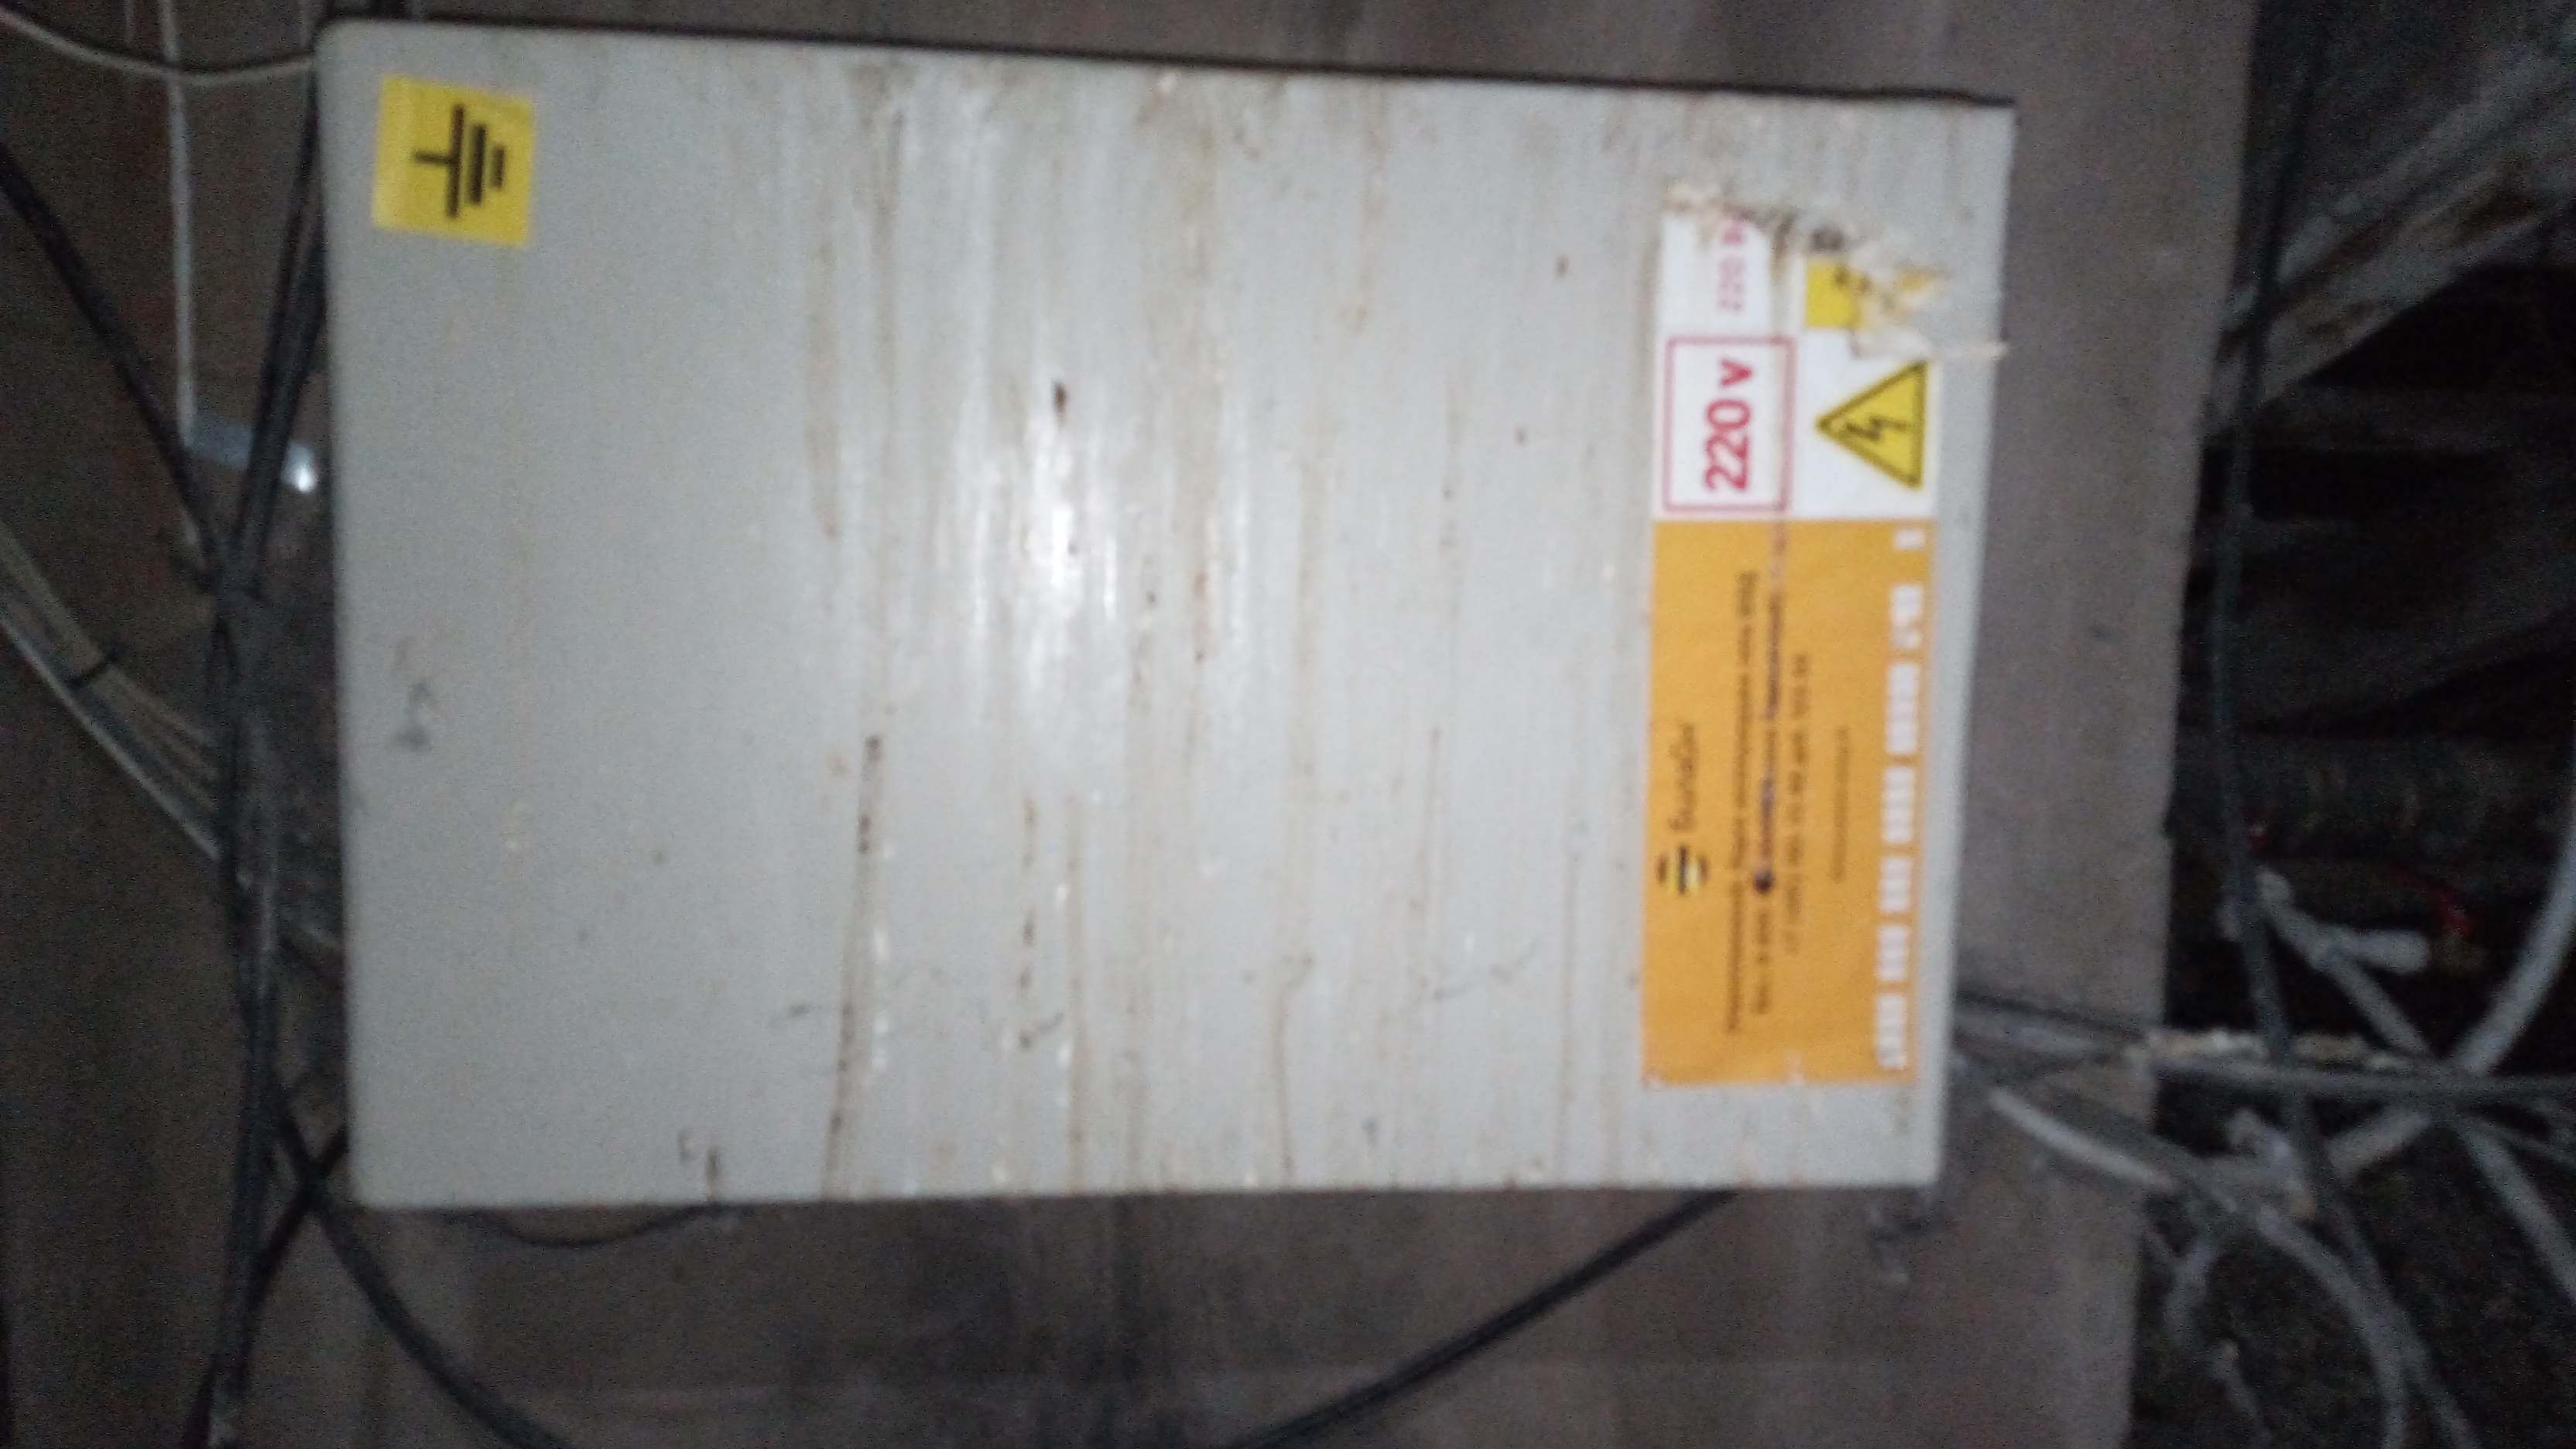sv-5: (297, 12, 2028, 1224)
